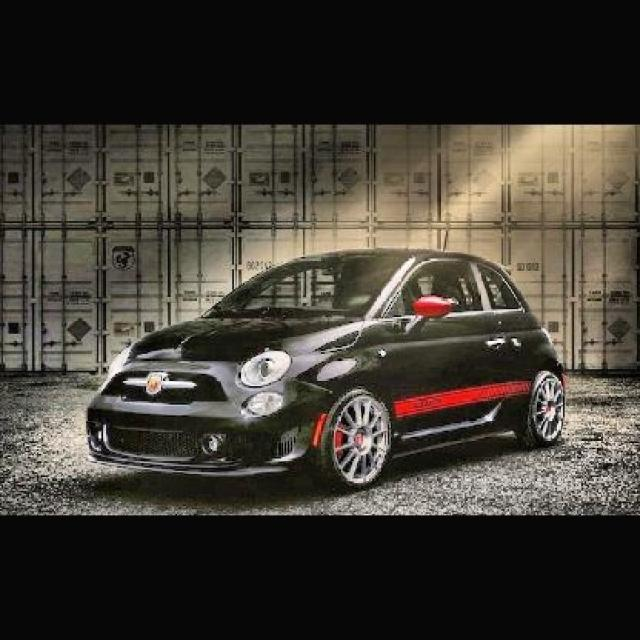black: (85, 238, 577, 476)
